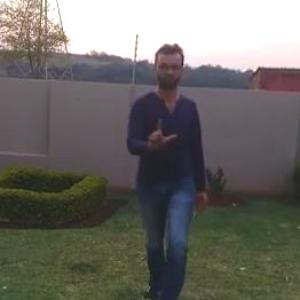land_hand: (140, 115, 181, 151)
